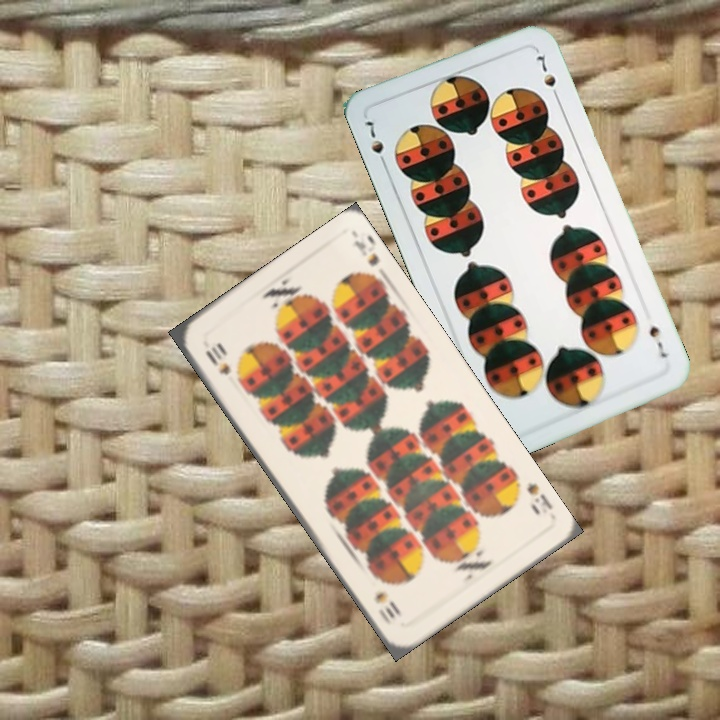S10: (523, 478, 556, 513), (201, 342, 233, 378)
S7: (360, 116, 390, 171), (645, 322, 670, 361)
